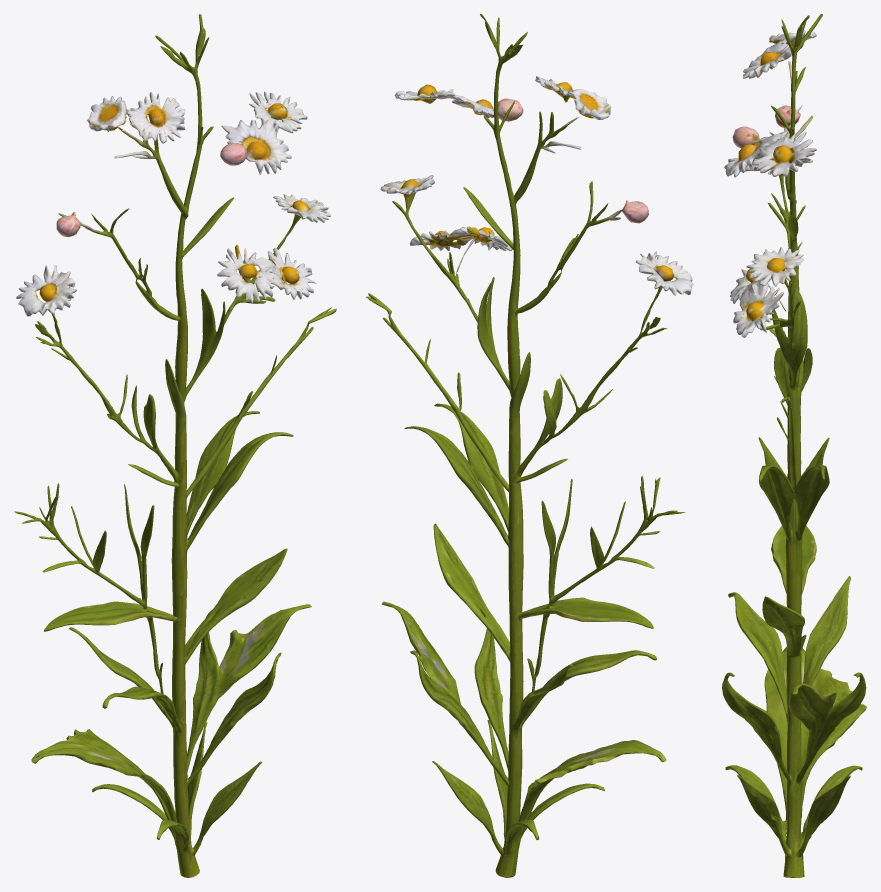
The model's file is Fleabane.glb.
3 views of the same model, side by side, from view 1: azimuth 30°, elevation 25°; view 2: azimuth 150°, elevation 25°; view 3: azimuth 270°, elevation 25° (orthographic). The views are drawn at different scales.
Parts seen in each view (by area): view 1: Mesh_0; view 2: Mesh_0; view 3: Mesh_0.
Part boxes in pixels (box(x1,y1,x2,y2)): Mesh_0: box(14, 14, 336, 877); Mesh_0: box(366, 14, 693, 877); Mesh_0: box(722, 14, 866, 877).
Size of the model in its own units: 0.388 by 1 by 0.1508.
1 material, 1 textured.
